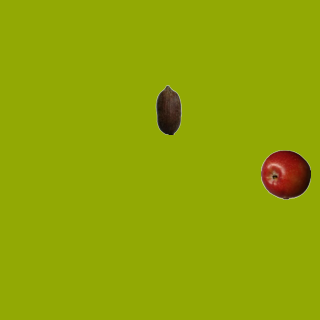Apple Braeburn: (260, 149, 310, 199)
Nut Pecan: (143, 84, 193, 134)
